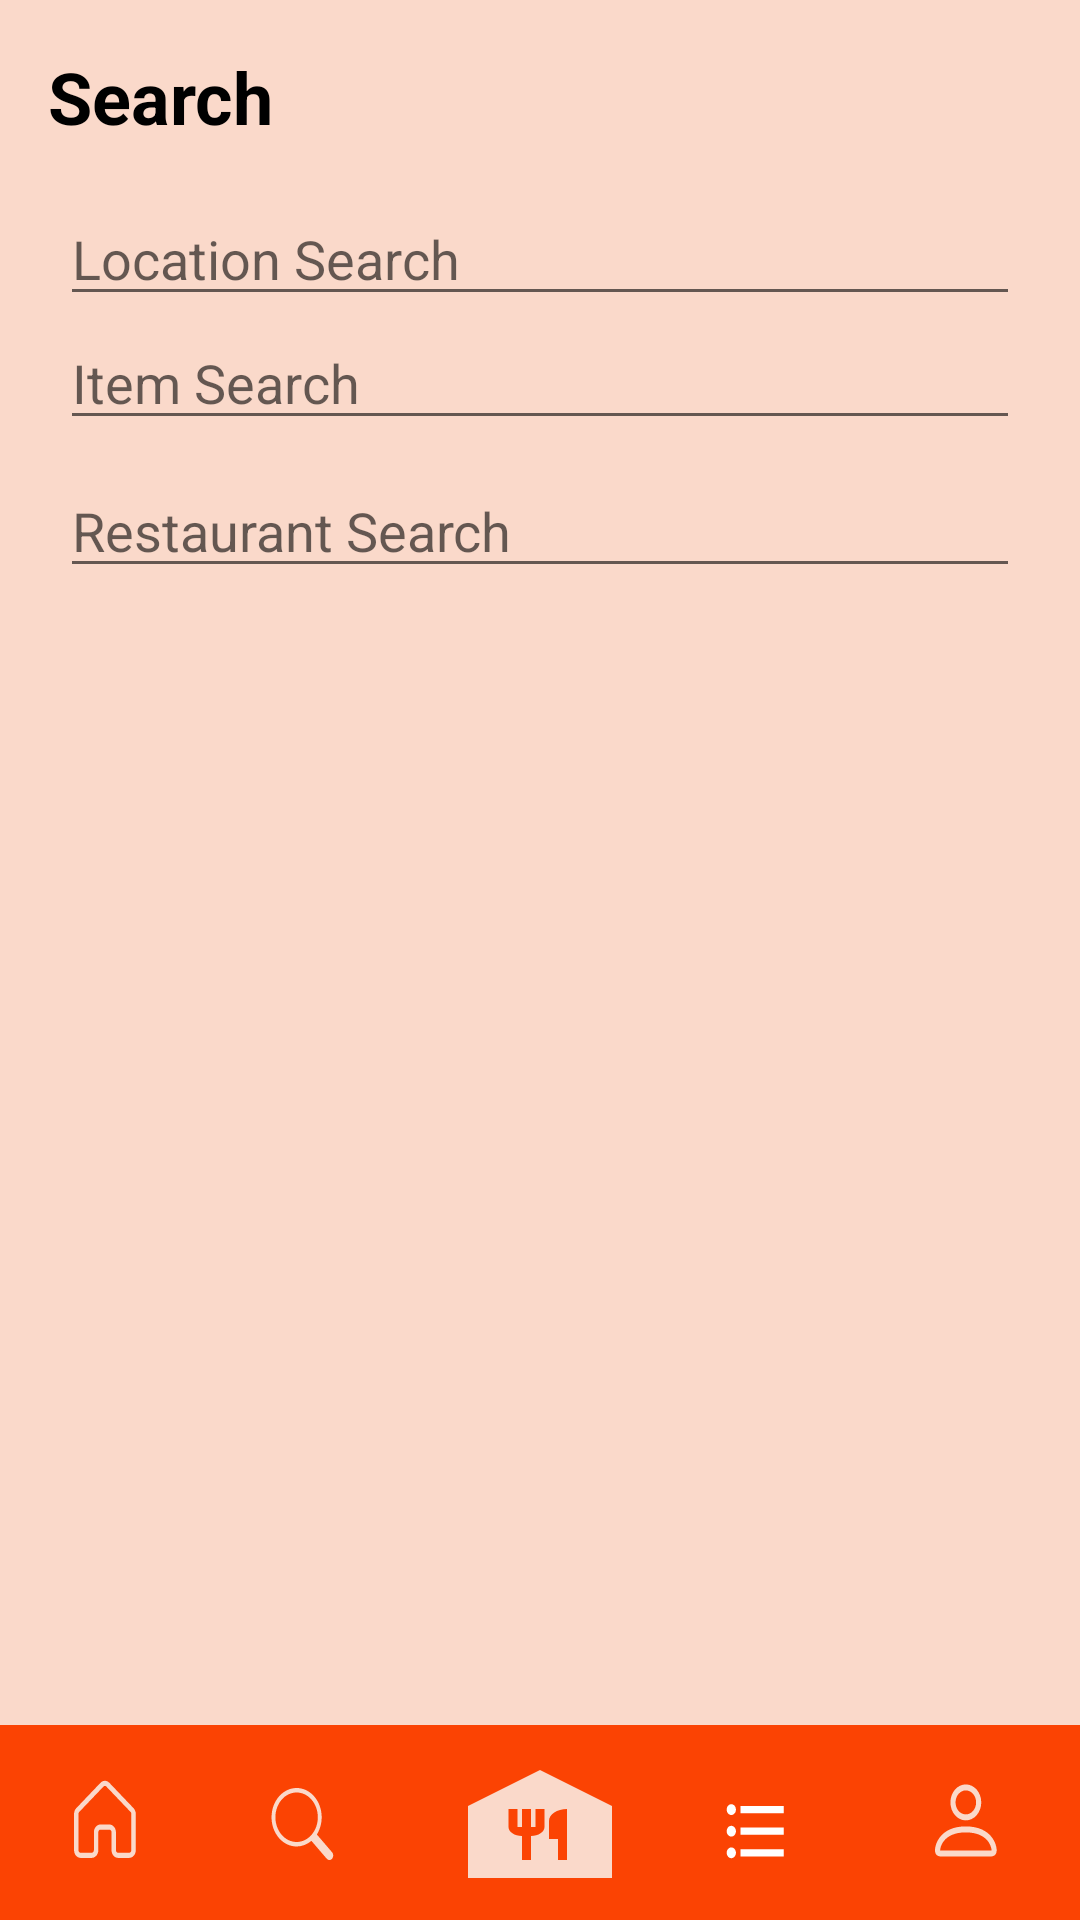

Screen size 1080px×1920px. Icon name, then its box in pixels as rect(x1, y1, x2, y2):
food: rect(468, 1770, 612, 1878)
home: rect(74, 1780, 136, 1858)
orders: rect(726, 1804, 784, 1859)
search: rect(271, 1788, 334, 1860)
user: rect(935, 1784, 997, 1857)
